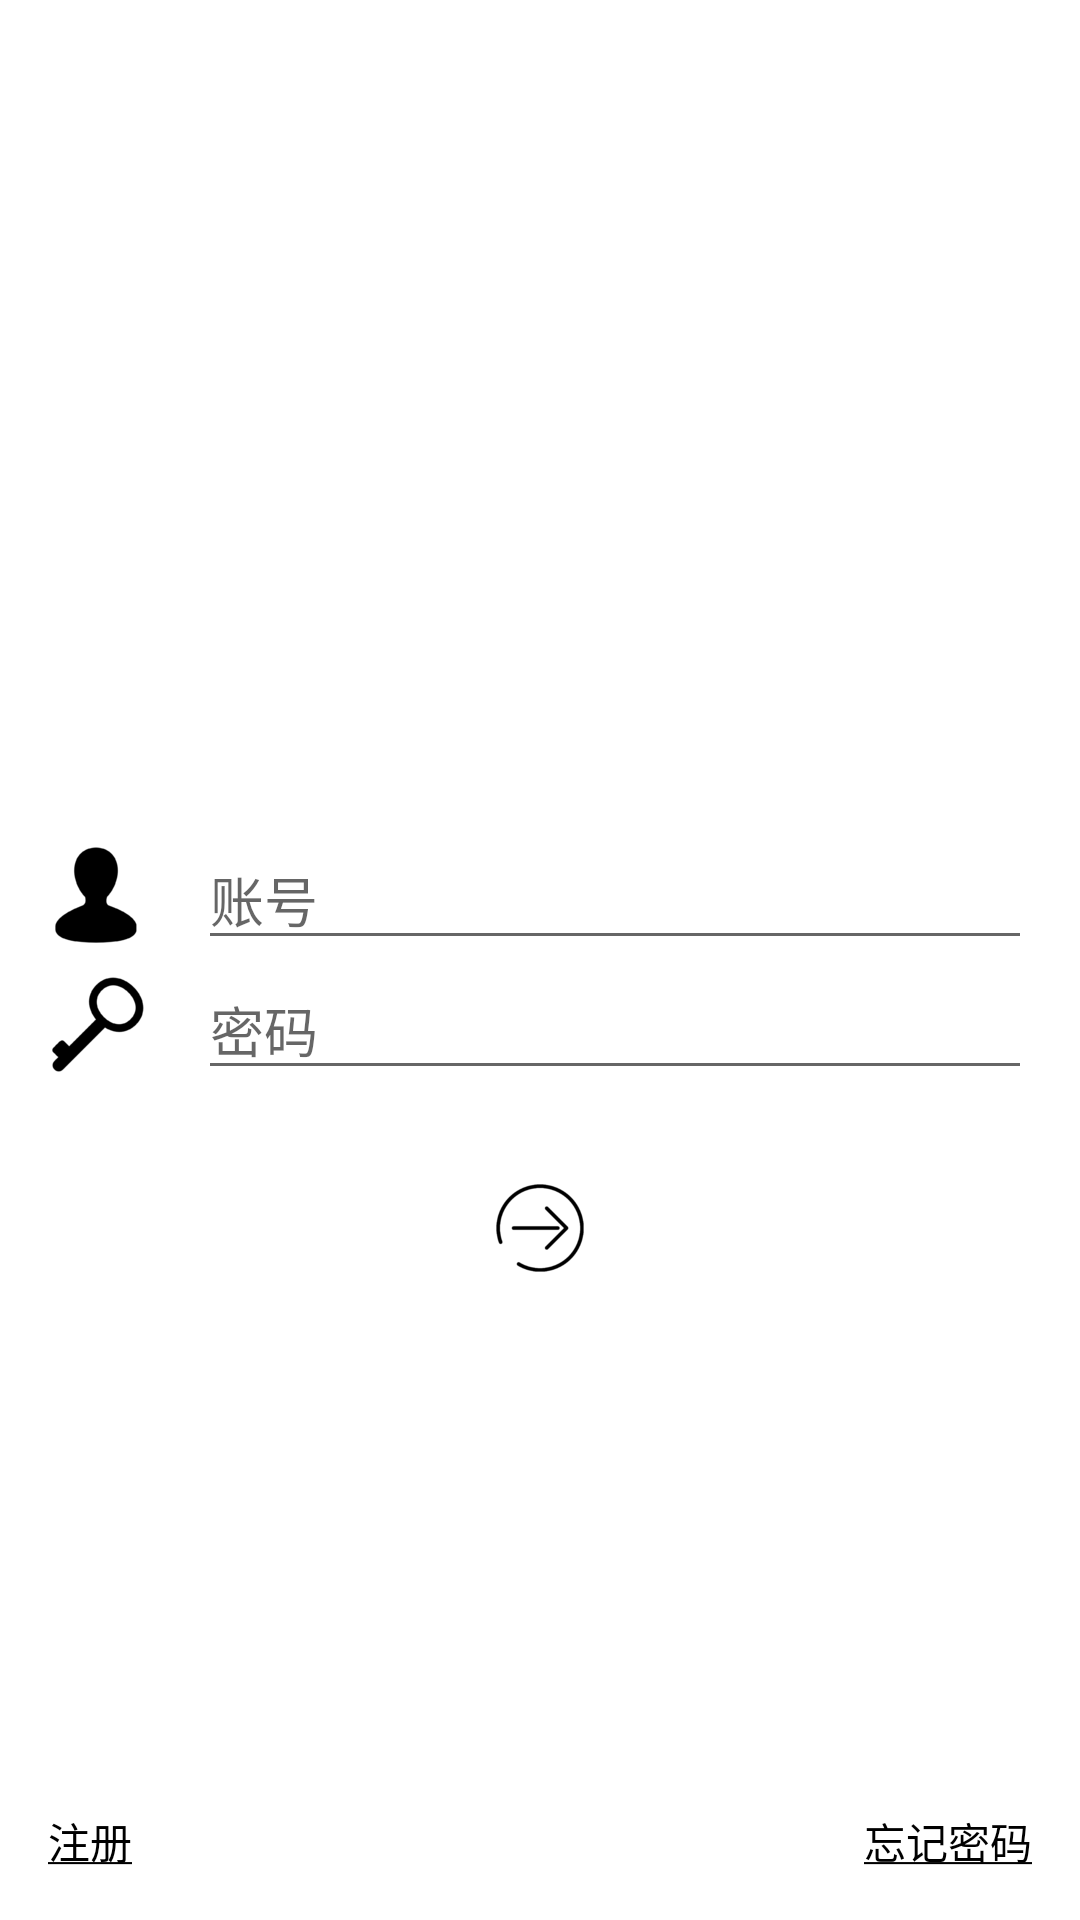

Locate icon controls on the screen. Image size 1080px×1920px, boxes as (x1, y1, x2, y2).
account: (55, 847, 137, 943)
next: (496, 1184, 584, 1272)
password: (52, 977, 144, 1072)
